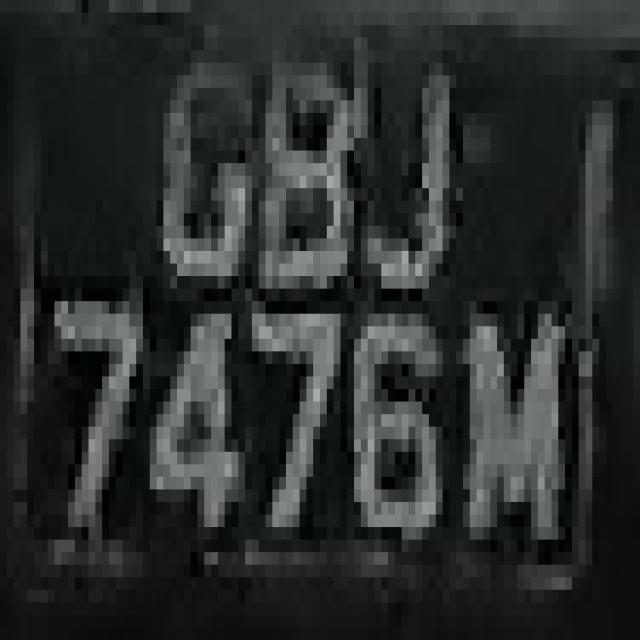4: (130, 276, 238, 628)
6: (354, 301, 456, 565)
7: (34, 264, 143, 564), (245, 264, 341, 564)
B: (245, 0, 361, 301)
G: (136, 13, 259, 301)
J: (361, 25, 476, 326)
M: (463, 263, 586, 590)
